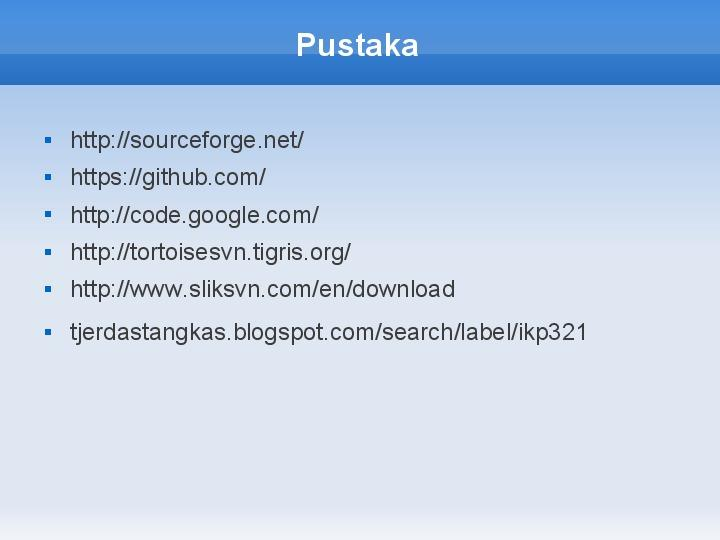paragraph: (33, 103, 648, 414)
title: (269, 14, 436, 66)
